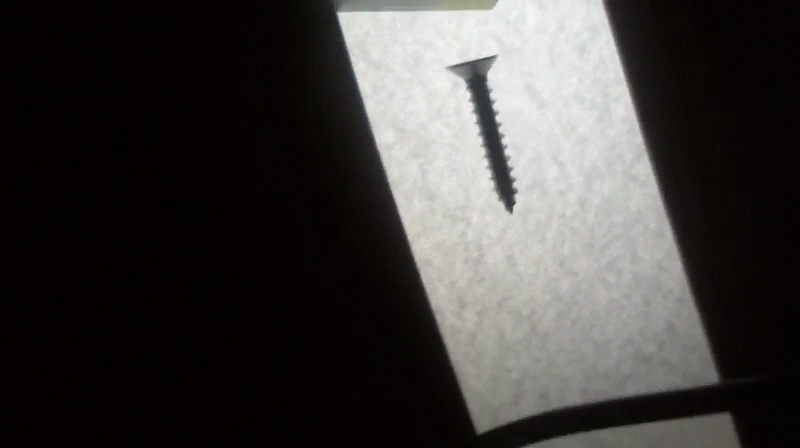S001: (442, 49, 522, 217)
